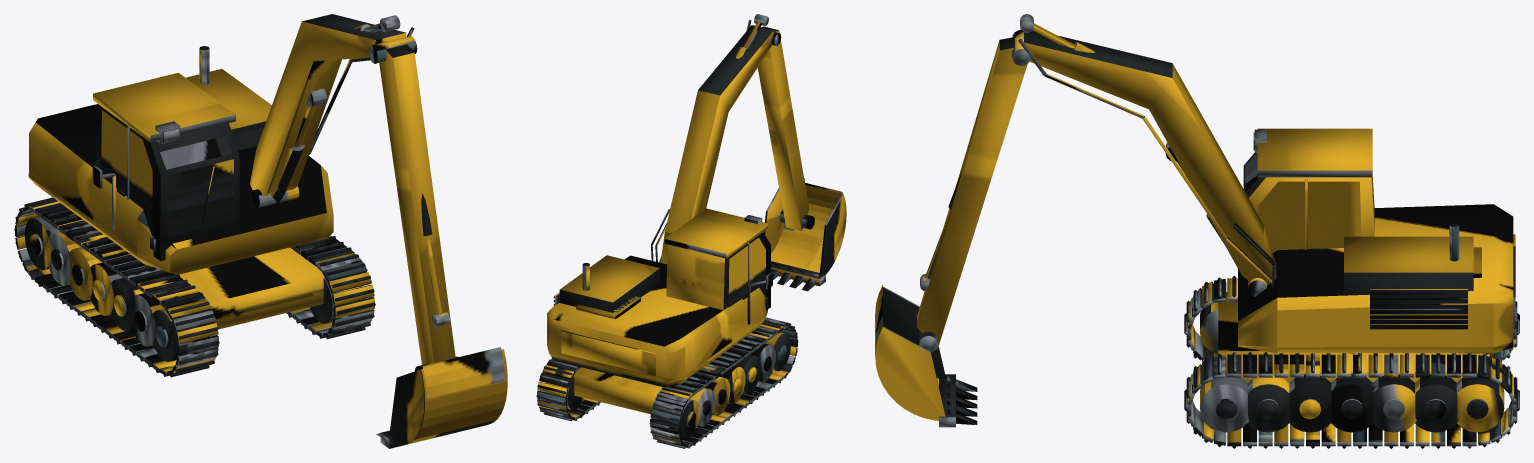
Rendered from excavator.lod1.obj.
3 views of the same model, side by side, from view 1: azimuth 30°, elevation 25°; view 2: azimuth 150°, elevation 25°; view 3: azimuth 270°, elevation 25° (orthographic). The views are drawn at different scales.
Visible parts, largest first — view 1: excavator; view 2: excavator; view 3: excavator.
Part boxes in pixels (x1,y1,x2,y2): excavator: (14, 14, 507, 448); excavator: (536, 14, 846, 448); excavator: (875, 14, 1519, 448).
Size of the model in its own units: 3.23 by 5.61 by 8.19.
Materials: 1 (1 with a texture image).
